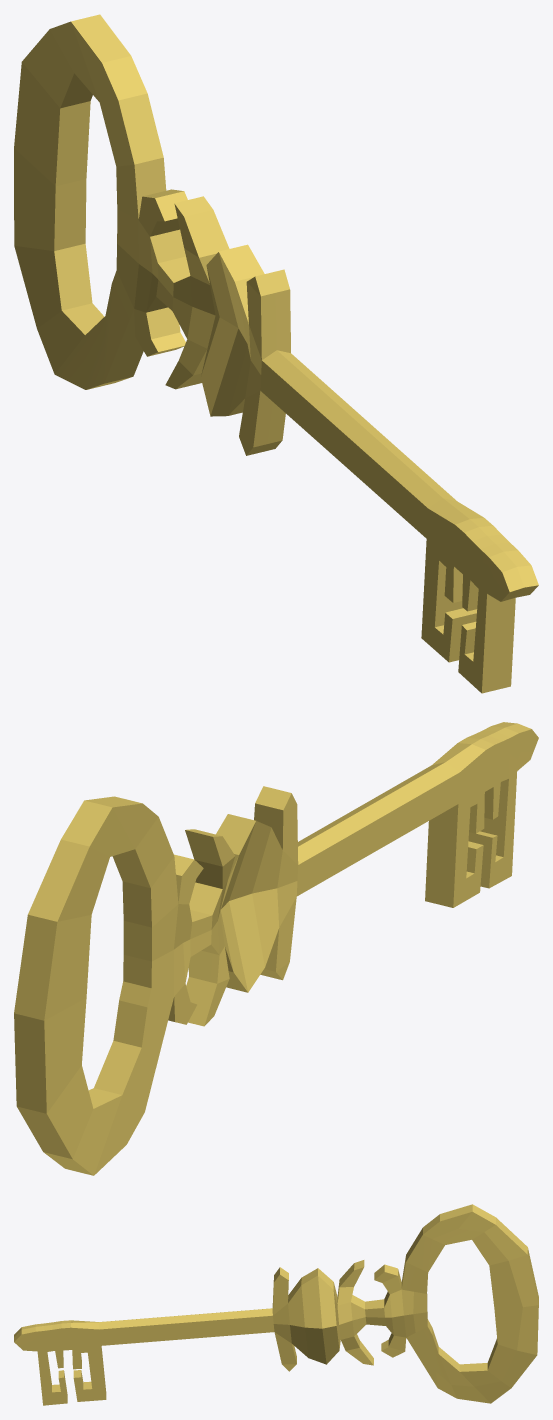
Rendered from Mod_Key.fbx.
3 views of the same model, one above another, from view 1: azimuth 30°, elevation 25°; view 2: azimuth 150°, elevation 25°; view 3: azimuth 270°, elevation 25° (orthographic). The views are drawn at different scales.
Parts seen in each view (by area): view 1: Key; view 2: Key; view 3: Key.
Part boxes in pixels (x1,y1,x2,y2): Key: [14, 14, 538, 693]; Key: [14, 722, 538, 1175]; Key: [14, 1204, 538, 1405].
Size of the model in its own units: 0.0692 by 0.3896 by 0.9556.
